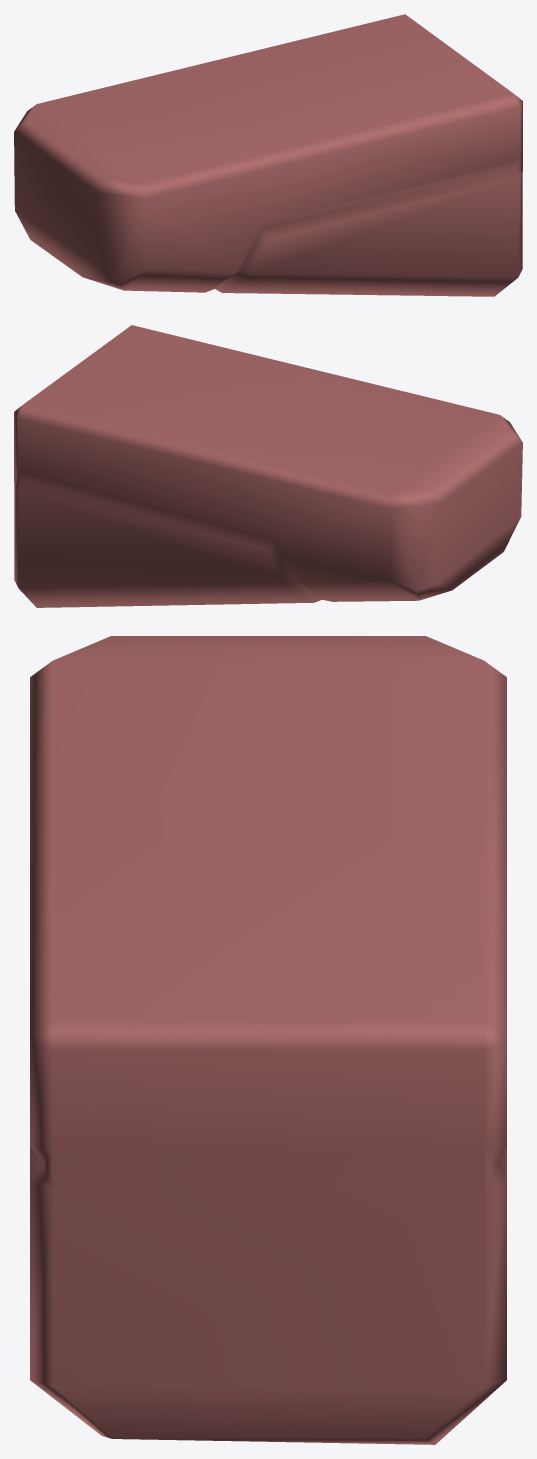
File: PlatformSupportShort.fbx
3 views of the same model, one above another, from view 1: azimuth 30°, elevation 25°; view 2: azimuth 150°, elevation 25°; view 3: azimuth 270°, elevation 25° (orthographic). The views are drawn at different scales.
Parts seen in each view (by area): view 1: PlatformSupportShort; view 2: PlatformSupportShort; view 3: PlatformSupportShort.
Part boxes in pixels (box(x1,y1,x2,y2)): PlatformSupportShort: box(14, 14, 522, 296); PlatformSupportShort: box(14, 325, 522, 607); PlatformSupportShort: box(30, 636, 506, 1444).
Size of the model in its own units: 200 by 98.36 by 100.
